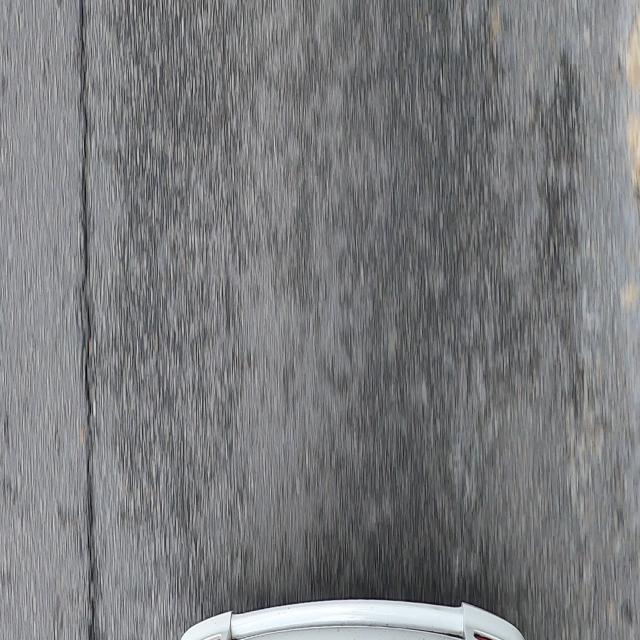Retak-Memanjang: (79, 0, 99, 638)
